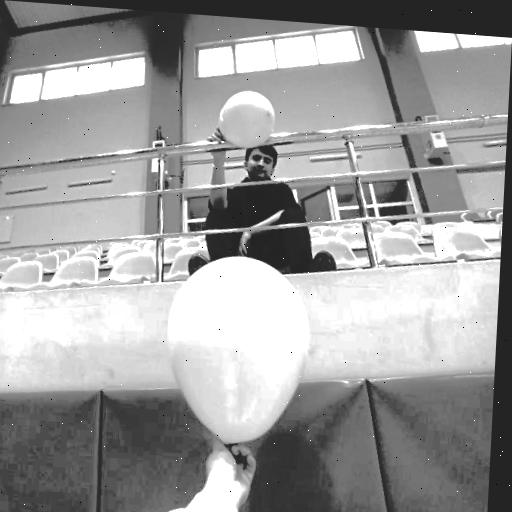balloon: (161, 251, 314, 453), (217, 89, 277, 152)
